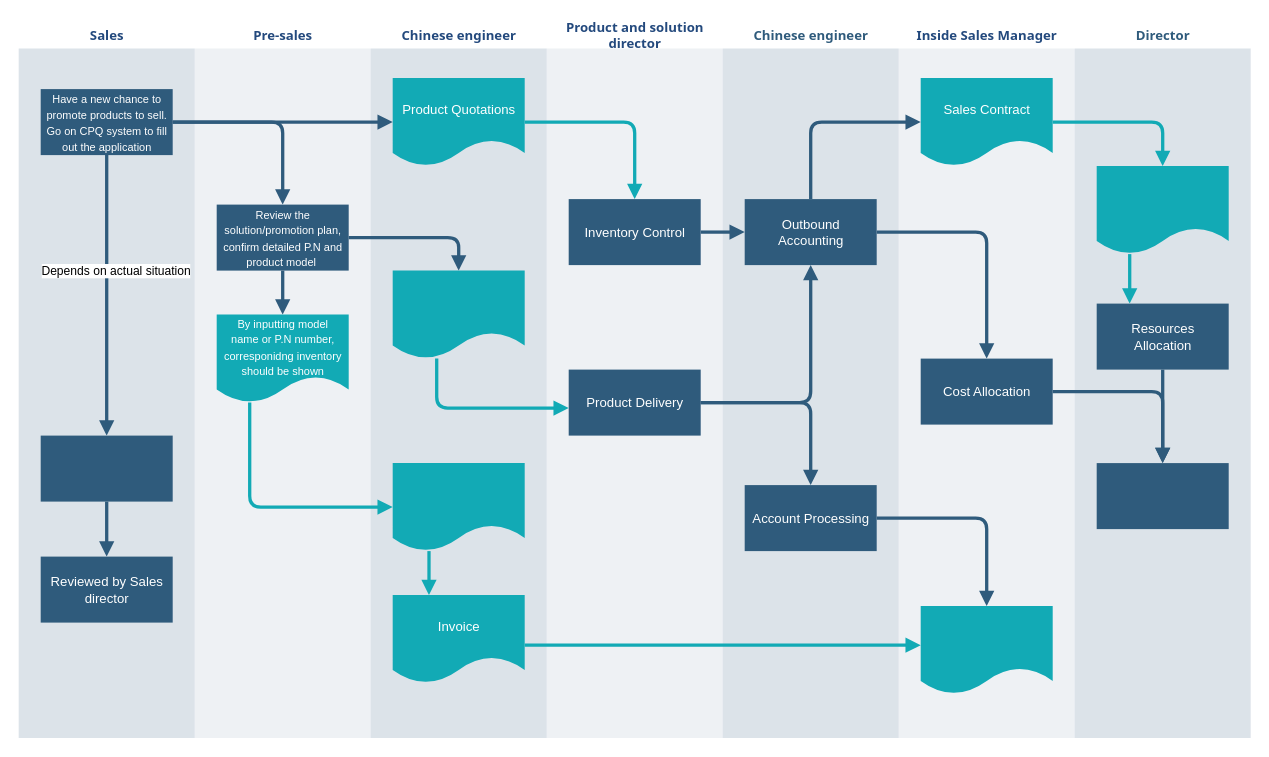
Some shapes in this 1269 by 757 pixel diagram are drawn without their labels. The shapes that lost their labels are listed below. From the top down, each one's box as (x1, y1, x2, y2) in pixels, then its label:
(1096, 166, 1228, 254): Outbounding Management
(392, 270, 524, 358): Orders
(40, 435, 172, 501): Submit project opportunity
(392, 463, 524, 551): Product Delivery Notification
(1096, 463, 1228, 529): Long Term Strategy
(920, 606, 1052, 694): Bills
